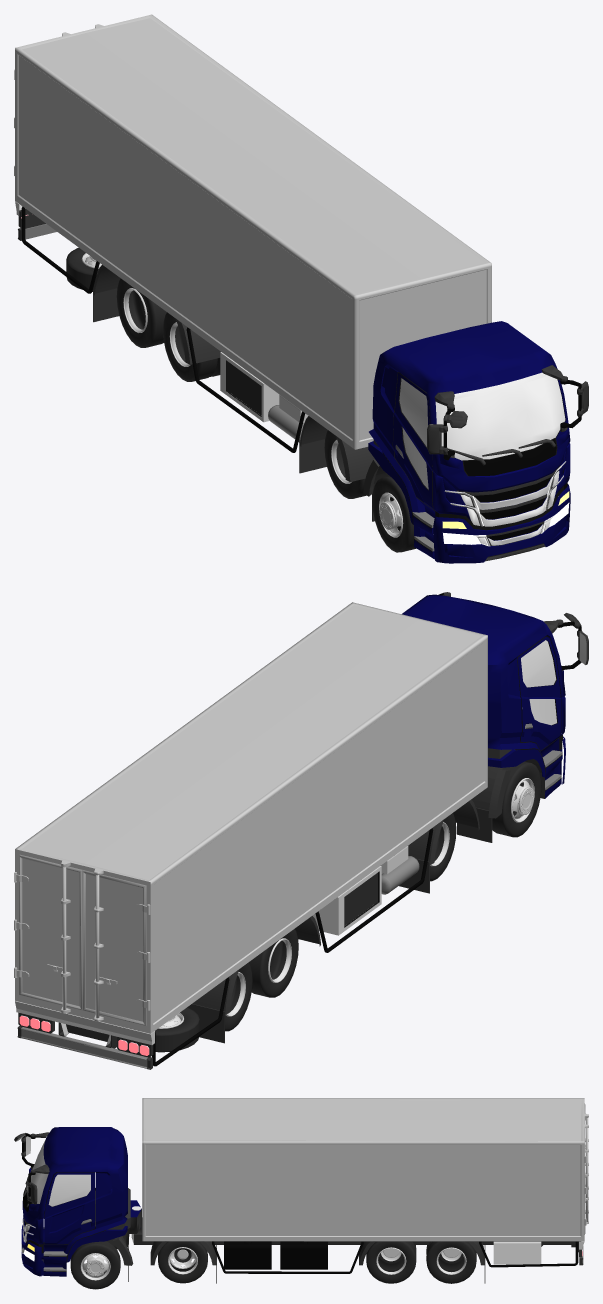
File: truck-compressed.glb
3 renders of one model, top to bottom at view 1: azimuth 30°, elevation 25°; view 2: azimuth 150°, elevation 25°; view 3: azimuth 270°, elevation 25°, orthographic. The views are drawn at different scales.
Visible parts, largest first — view 1: Truck_body_Truck_body.L_3, Truck_head_Truck_head.L_1, wheels_Circle.006_20, wheels_Circle.027_9, wheels_Circle.010_18, wheels_Circle.028_11, wheels_Circle.026_8; view 2: Truck_body_Truck_body.L_3, Truck_head_Truck_head.L_1, wheels_Circle.010_18, wheels_Circle.027_9, wheels_Circle.006_20, wheels_Circle.028_11, wheels_Circle.026_8; view 3: Truck_body_Truck_body.L_3, Truck_head_Truck_head.L_1, wheels_Circle.013_26, wheels_Circle.008_23, wheels_Circle.025_15, wheels_Circle.001_5, wheels_Circle.002_6, wheels_Circle.024_14, wheels_Circle.012_24, wheels_Circle.014_27.
Boxes of the visible parts, x1,y1,x2,y2 form: Truck_body_Truck_body.L_3: (14,14,491,481); Truck_head_Truck_head.L_1: (363,321,588,563); wheels_Circle.006_20: (116,278,166,347); wheels_Circle.027_9: (372,476,416,552); wheels_Circle.010_18: (163,312,220,381); wheels_Circle.028_11: (324,430,366,498); wheels_Circle.026_8: (379,492,403,537); Truck_body_Truck_body.L_3: (14,602,487,1069); Truck_head_Truck_head.L_1: (402,592,588,842); wheels_Circle.010_18: (249,929,298,997); wheels_Circle.027_9: (492,761,541,837); wheels_Circle.006_20: (225,962,252,1031); wheels_Circle.028_11: (430,813,456,881); wheels_Circle.026_8: (511,778,534,822); Truck_body_Truck_body.L_3: (131,1098,588,1283); Truck_head_Truck_head.L_1: (14,1127,141,1281); wheels_Circle.013_26: (426,1241,476,1283); wheels_Circle.008_23: (366,1241,416,1283); wheels_Circle.025_15: (158,1241,207,1283); wheels_Circle.001_5: (70,1241,120,1289); wheels_Circle.002_6: (80,1253,110,1280); wheels_Circle.024_14: (168,1247,197,1274); wheels_Circle.012_24: (376,1247,406,1274); wheels_Circle.014_27: (436,1247,466,1274).
Size of the model in its own units: 3.45 by 4.51 by 15.91.
